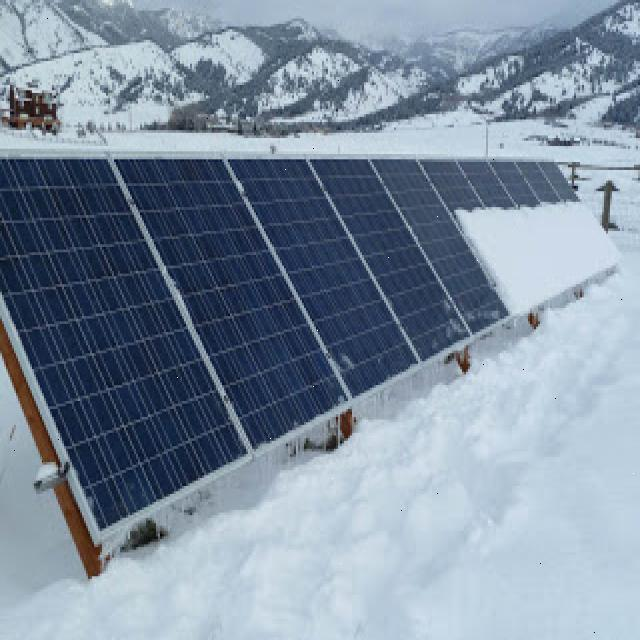Anomaly Solar Panel: (409, 99, 624, 333)
Normal Solar Panel: (0, 115, 253, 530), (112, 111, 351, 447), (220, 124, 424, 401), (309, 134, 471, 363), (371, 142, 509, 337)
Snow: (450, 148, 622, 321)
